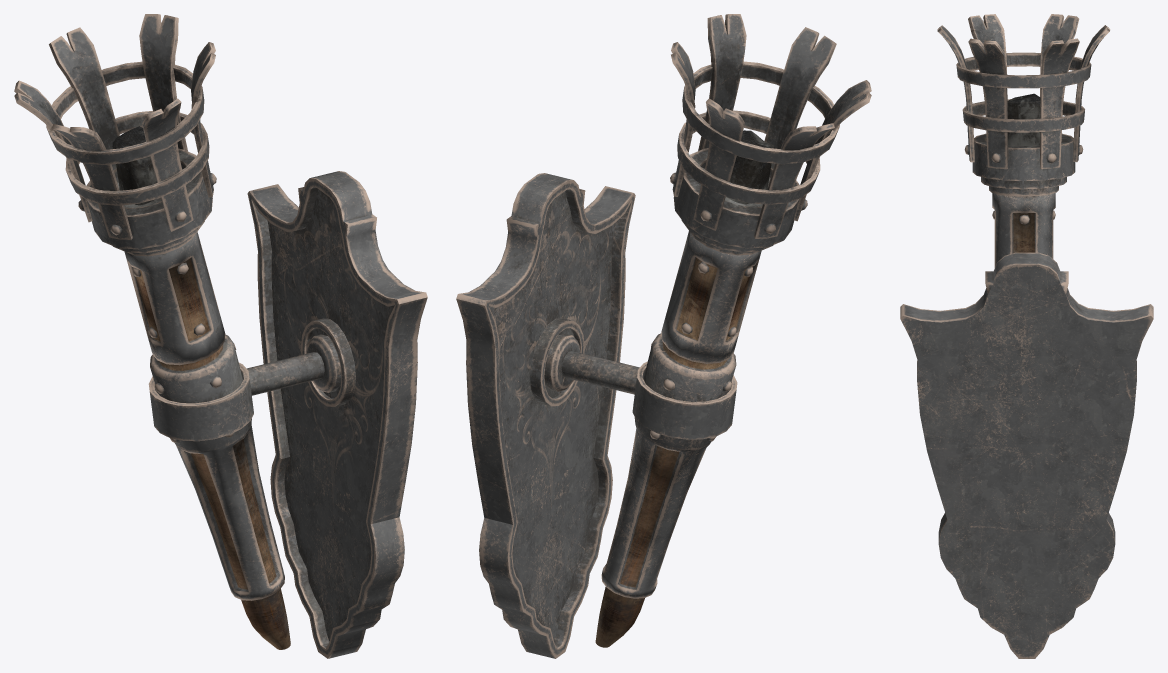
The model's file is SM_Wall_Torch_01a.fbx.
3 views of the same model, side by side, from view 1: azimuth 30°, elevation 25°; view 2: azimuth 150°, elevation 25°; view 3: azimuth 270°, elevation 25° (orthographic). The views are drawn at different scales.
Parts seen in each view (by area): view 1: SM_Wall_Torch_01a_LOD0; view 2: SM_Wall_Torch_01a_LOD0; view 3: SM_Wall_Torch_01a_LOD0.
Part boxes in pixels (box(x1,y1,x2,y2)): SM_Wall_Torch_01a_LOD0: box(14, 14, 427, 658); SM_Wall_Torch_01a_LOD0: box(456, 14, 871, 658); SM_Wall_Torch_01a_LOD0: box(900, 14, 1153, 658).
Bounding box in the file's own units: 59.61 × 48.82 × 117.
Materials: 1 (1 with a texture image).
